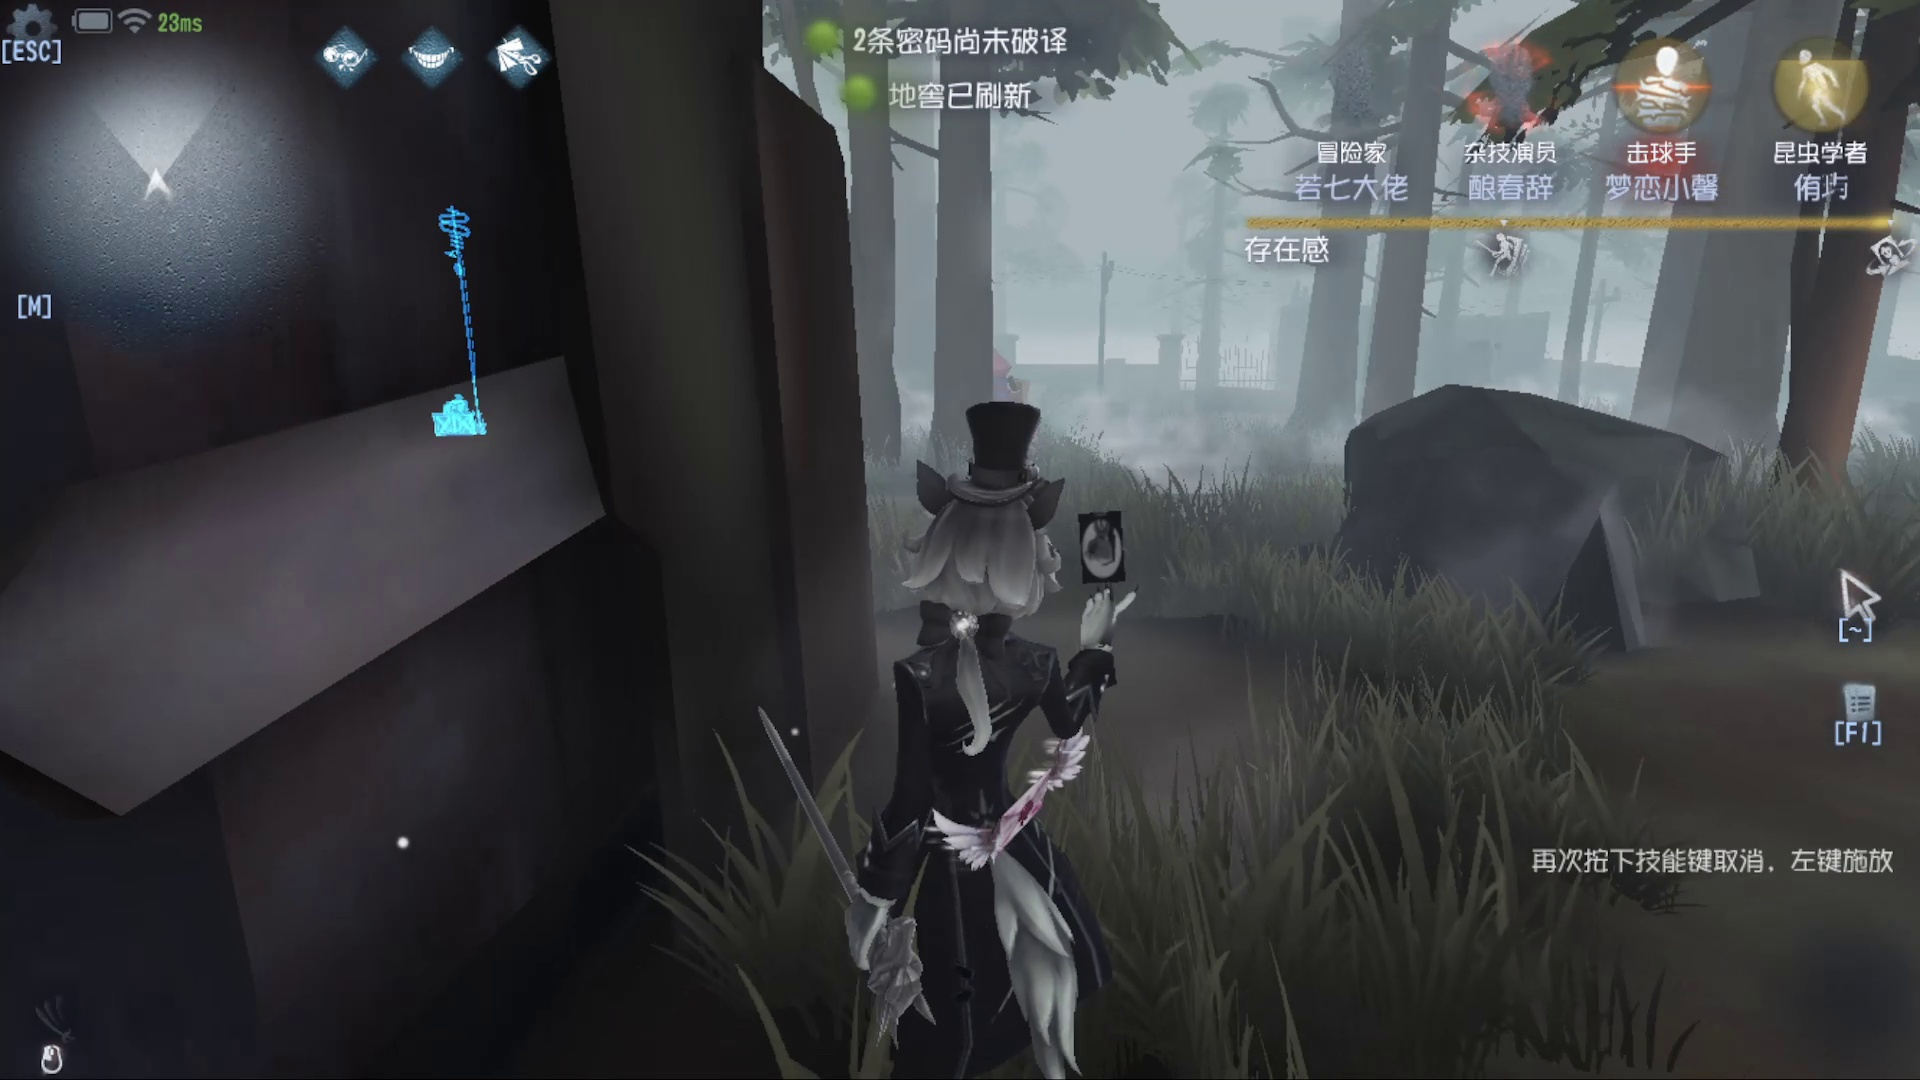密码机: (348, 173, 535, 458)
